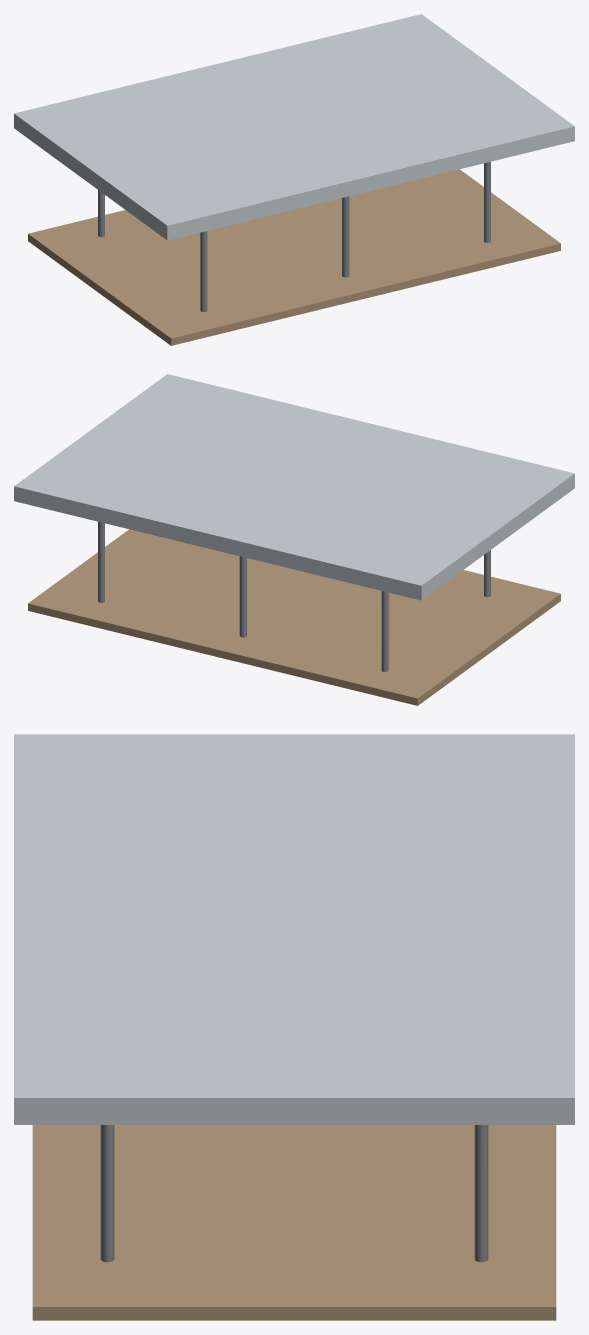
The model's file is market_building.glb.
3 views of the same model, one above another, from view 1: azimuth 30°, elevation 25°; view 2: azimuth 150°, elevation 25°; view 3: azimuth 270°, elevation 25° (orthographic). The views are drawn at different scales.
Parts seen in each view (by area): view 1: CanopyRoof_Node, MarketFloor_Node, Pillar_0_5_Node, Pillar_-8_5_Node, Pillar_8_5_Node; view 2: CanopyRoof_Node, MarketFloor_Node, Pillar_0_-5_Node, Pillar_-8_-5_Node, Pillar_8_-5_Node; view 3: CanopyRoof_Node, MarketFloor_Node, Pillar_8_-5_Node, Pillar_8_5_Node.
Boxes of the visible parts, x1=… form: CanopyRoof_Node: x1=14, y1=14, x2=574, y2=240; MarketFloor_Node: x1=28, y1=169, x2=560, y2=345; Pillar_0_5_Node: x1=342, y1=196, x2=349, y2=277; Pillar_-8_5_Node: x1=200, y1=231, x2=207, y2=311; Pillar_8_5_Node: x1=484, y1=161, x2=490, y2=242; CanopyRoof_Node: x1=14, y1=374, x2=574, y2=600; MarketFloor_Node: x1=28, y1=529, x2=560, y2=705; Pillar_0_-5_Node: x1=239, y1=556, x2=246, y2=637; Pillar_-8_-5_Node: x1=381, y1=591, x2=388, y2=671; Pillar_8_-5_Node: x1=98, y1=521, x2=104, y2=602; CanopyRoof_Node: x1=14, y1=734, x2=574, y2=1124; MarketFloor_Node: x1=32, y1=1125, x2=556, y2=1320; Pillar_8_-5_Node: x1=474, y1=1125, x2=488, y2=1262; Pillar_8_5_Node: x1=100, y1=1125, x2=114, y2=1262.
Bounding box in the file's own units: 23 × 6.8 × 15.
